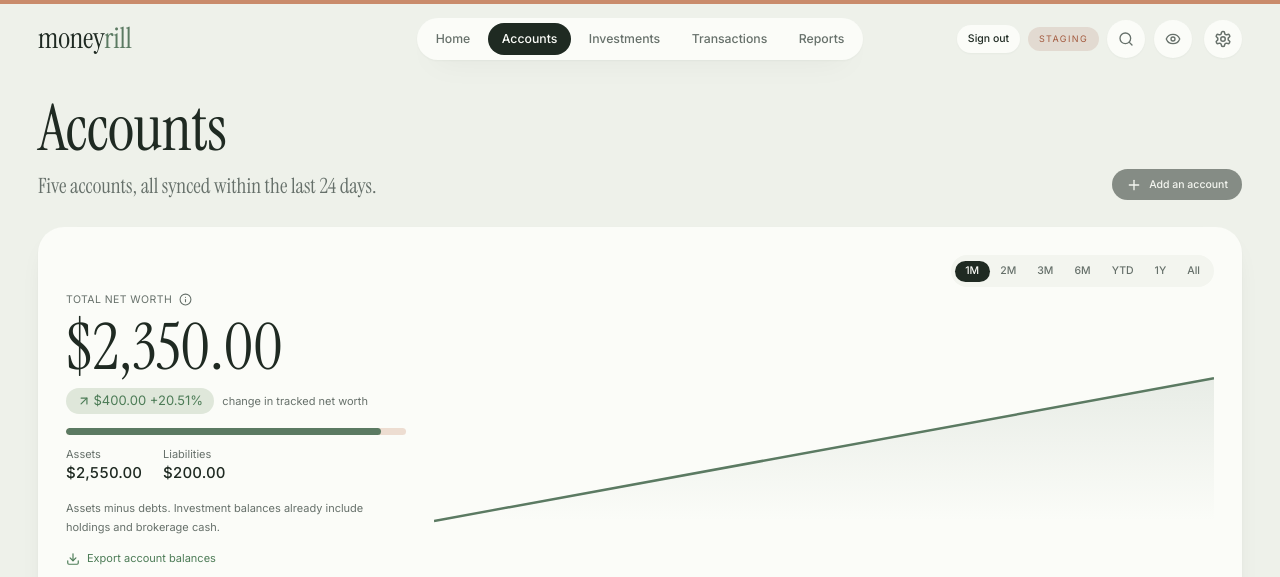
Test: Add transaction › points to adding a manual account for a 401(k) that is not connected
expect the text "TOTAL NET WORTH" is shown: met, box [66,293,192,306]
Step 1. Click the link "Transactions" → coordinates (730, 38), box [692,31,767,46]
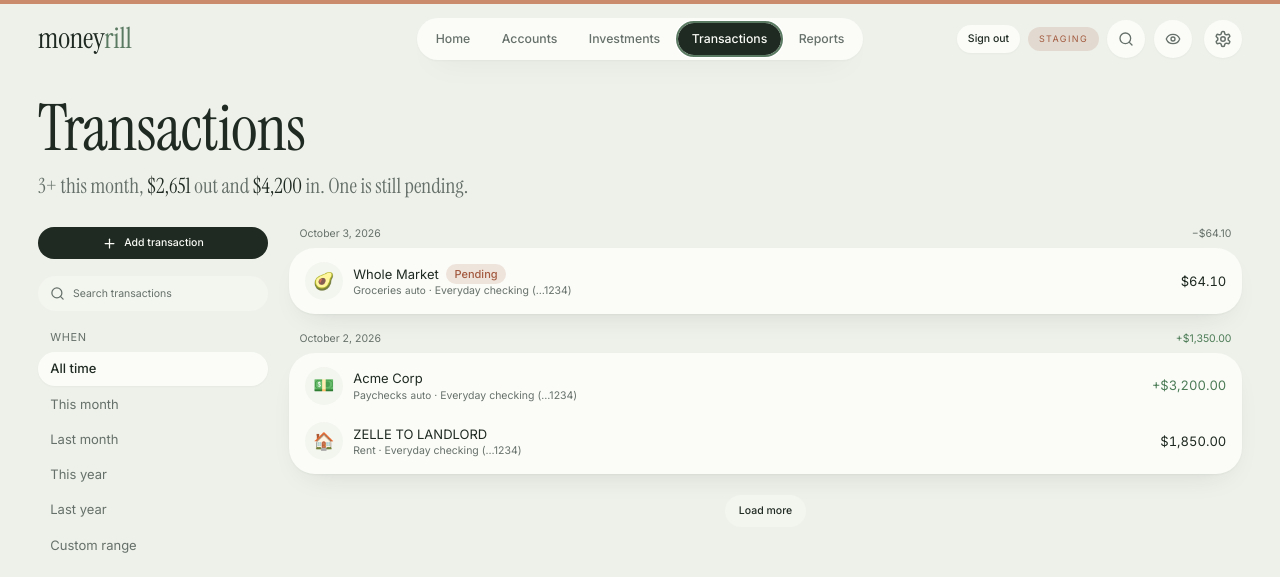
expect the text "Whole Market" is shown: met, box [353,264,439,284]
Step 2. Click the button "Add transaction" → coordinates (153, 243), box [38,227,268,259]
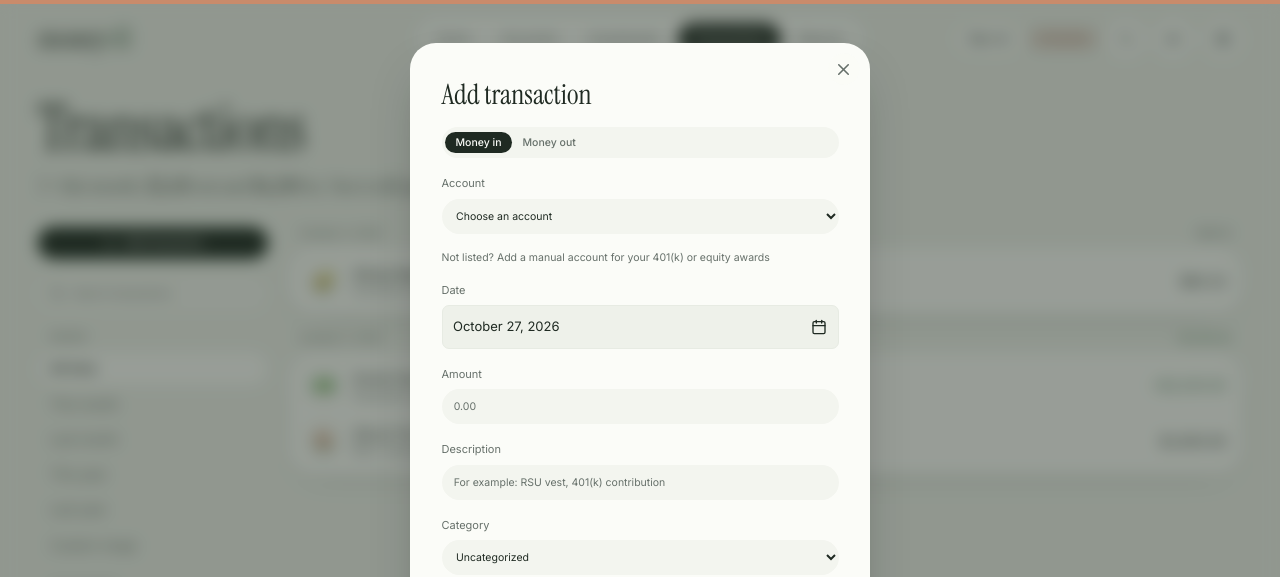
Step 3. Click the button "Add a manual account for your 401(k)" → coordinates (606, 258), box [442,251,770,265]
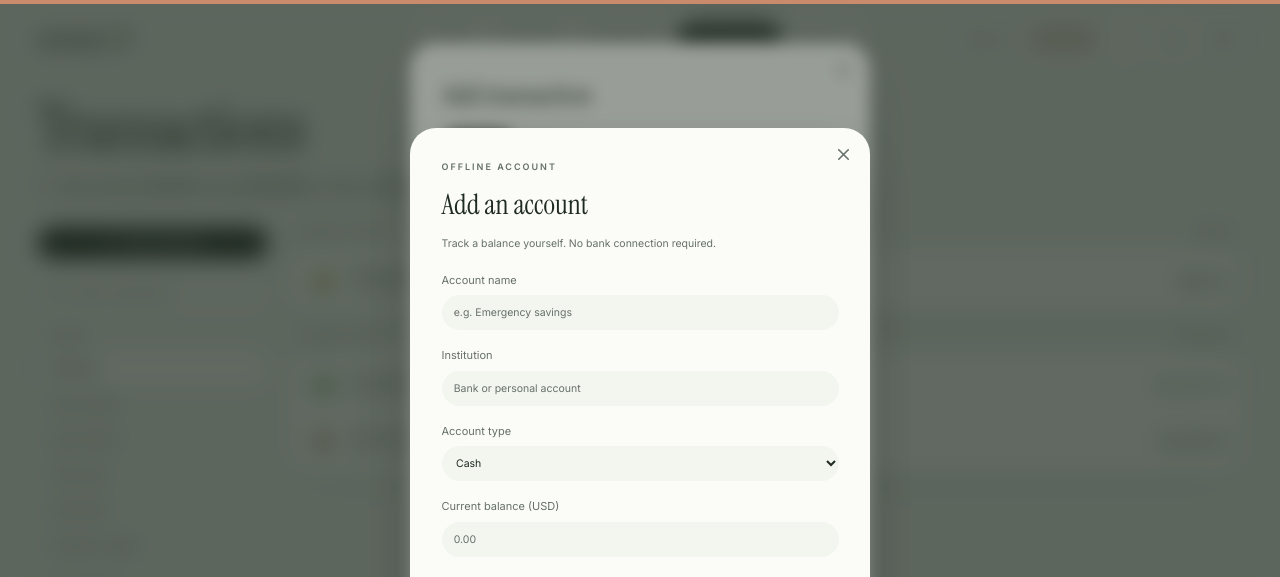
expect the heading "Add an account" is shown: met, box [442,186,588,223]
